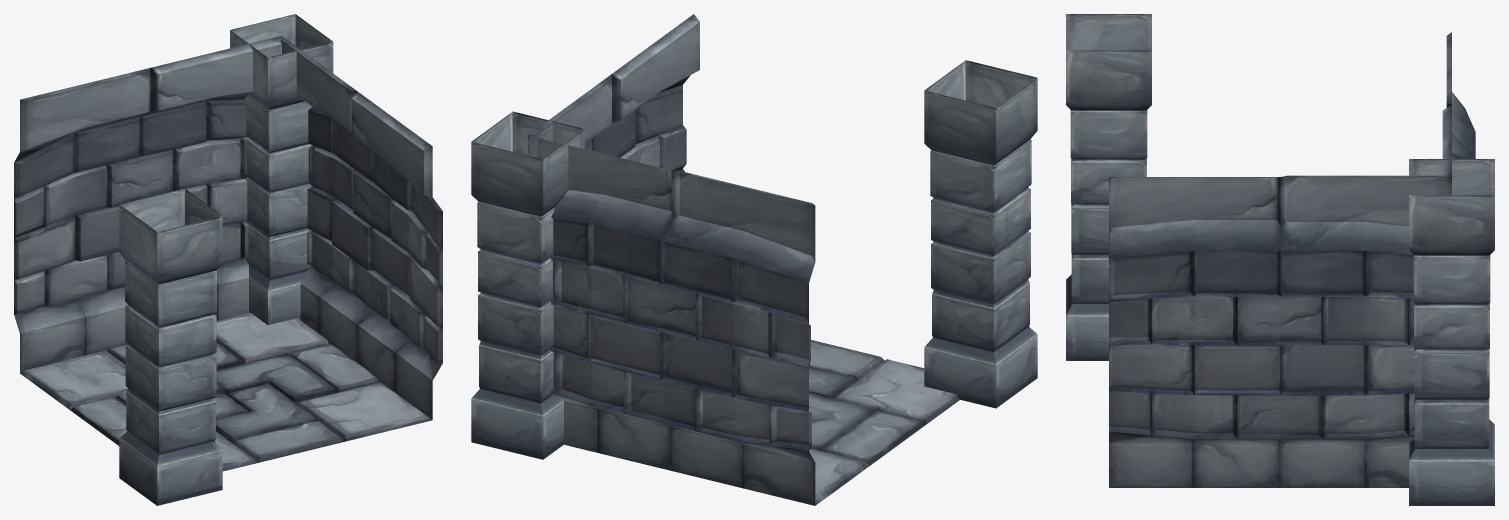
The model's file is GFTemple_Corridor2.fbx.
3 renders of one model, left to right at view 1: azimuth 30°, elevation 25°; view 2: azimuth 150°, elevation 25°; view 3: azimuth 270°, elevation 25°, orthographic. The views are drawn at different scales.
Visible parts, largest first — view 1: GFTemple_Wall39, GFTemple_Wall40, GFTemple_Column20, GFTemple_Floor21, GFTemple_Column19; view 2: GFTemple_Wall39, GFTemple_Column20, GFTemple_Column19, GFTemple_Floor21, GFTemple_Wall40; view 3: GFTemple_Wall40, GFTemple_Column19, GFTemple_Column20, GFTemple_Wall39.
Boxes of the visible parts, box(x1,y1,x2,y2) form: GFTemple_Wall39: box(14, 36, 281, 373); GFTemple_Wall40: box(280, 36, 442, 419); GFTemple_Column20: box(119, 188, 222, 505); GFTemple_Floor21: box(20, 313, 432, 471); GFTemple_Column19: box(230, 14, 333, 324); GFTemple_Wall39: box(537, 137, 815, 505); GFTemple_Column20: box(924, 60, 1037, 408); GFTemple_Column19: box(471, 111, 584, 459); GFTemple_Floor21: box(809, 340, 959, 505); GFTemple_Wall40: box(528, 14, 699, 171); GFTemple_Wall40: box(1109, 175, 1450, 487); GFTemple_Column19: box(1409, 159, 1494, 505); GFTemple_Column20: box(1066, 14, 1151, 360); GFTemple_Wall39: box(1442, 32, 1475, 195).
Bounding box in the file's own units: 5 × 4 × 5.
